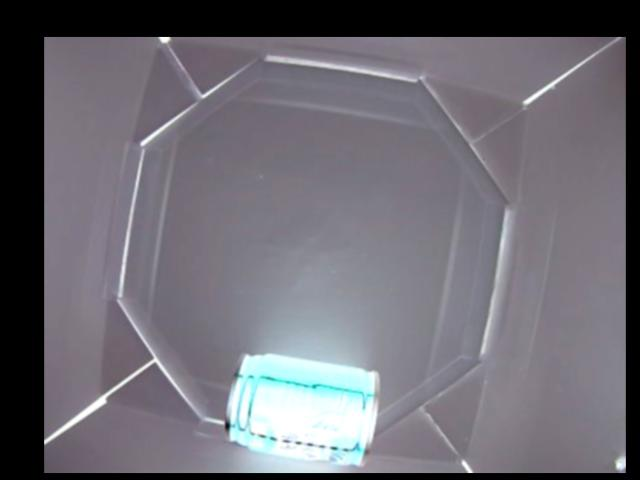Bottle: (222, 353, 378, 468)
